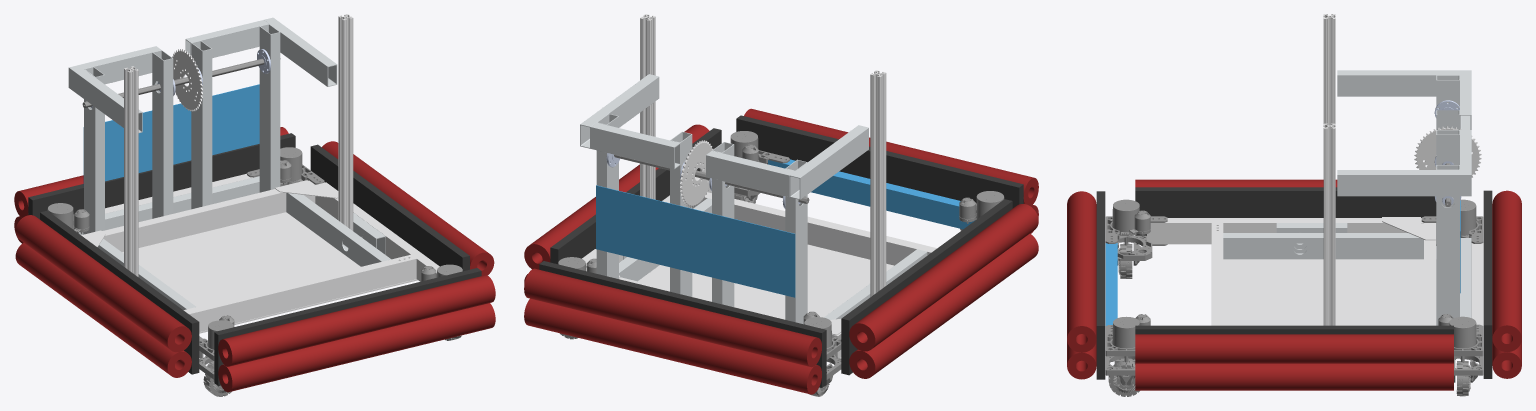
The picture shows the model from 3 angles, left to right: view 1: azimuth 30°, elevation 25°; view 2: azimuth 150°, elevation 25°; view 3: azimuth 270°, elevation 25°; orthographic projection. The views are drawn at different scales.
Parts seen in each view (by area): view 1: E/W bumper:1, E/W bumper:4, Floor v4:1, E/W bumper:3, backplate v2:1, side E/W:3, E/W bumper:2, side E/W:4, Superstructure Uprights v3:3, 22 inch 8020 bar v5:1, Superstructure Uprights v3:1, Superstructure Uprights v3:4 (+17 smaller); view 2: E/W bumper:2, E/W bumper:4, backplate v2:1, E/W bumper:1, Floor v4:1, E/W bumper:3, side E/W:3, 22 inch 8020 bar v5:2, Front Steel Bar v1:1, Superstructure Hard Stop v2:2, Climber Side Brace v3:2, Superstructure Hard Stop v2:1 (+12 smaller); view 3: E/W bumper:3, Floor v4:1, E/W bumper:4, E/W bumper:1, E/W bumper:2, Climber Long Motor Mount v4:2, Climber Side Brace v3:1, side E/W:1, Superstructure Uprights v3:1, Climber Side Brace v3:2, 22 inch 8020 bar v5:1, 22 inch 8020 bar v5:2 (+25 smaller).
Boxes of the visible parts, x1,y1,x2,y2 form: E/W bumper:1: [214, 268, 495, 392]; E/W bumper:4: [15, 210, 199, 377]; Floor v4:1: [122, 212, 417, 333]; E/W bumper:3: [310, 141, 494, 275]; backplate v2:1: [83, 84, 259, 185]; side E/W:3: [183, 254, 416, 331]; E/W bumper:2: [14, 127, 295, 243]; side E/W:4: [102, 180, 315, 251]; Superstructure Uprights v3:3: [152, 50, 173, 218]; 22 inch 8020 bar v5:1: [338, 14, 353, 230]; Superstructure Uprights v3:1: [259, 24, 280, 192]; Superstructure Uprights v3:4: [191, 40, 212, 209]; E/W bumper:2: [524, 261, 826, 394]; E/W bumper:4: [841, 199, 1038, 378]; backplate v2:1: [596, 185, 795, 297]; E/W bumper:1: [736, 108, 1038, 233]; Floor v4:1: [638, 244, 893, 317]; E/W bumper:3: [524, 124, 721, 283]; side E/W:3: [692, 192, 936, 265]; 22 inch 8020 bar v5:2: [870, 70, 886, 296]; Front Steel Bar v1:1: [768, 159, 975, 229]; Superstructure Hard Stop v2:2: [590, 122, 680, 169]; Climber Side Brace v3:2: [790, 125, 868, 199]; Superstructure Hard Stop v2:1: [706, 151, 795, 197]; E/W bumper:3: [1135, 325, 1453, 390]; Floor v4:1: [1211, 244, 1436, 325]; E/W bumper:4: [1135, 179, 1436, 243]; E/W bumper:1: [1067, 191, 1105, 379]; E/W bumper:2: [1483, 190, 1521, 378]; Climber Long Motor Mount v4:2: [1223, 233, 1423, 259]; Climber Side Brace v3:1: [1337, 170, 1471, 196]; side E/W:1: [1147, 218, 1436, 244]; Superstructure Uprights v3:1: [1436, 165, 1459, 325]; Climber Side Brace v3:2: [1337, 70, 1471, 96]; 22 inch 8020 bar v5:1: [1323, 123, 1335, 325]; 22 inch 8020 bar v5:2: [1323, 14, 1335, 125].
Bounding box in the file's own units: 0.8513 × 0.6287 × 0.979.
